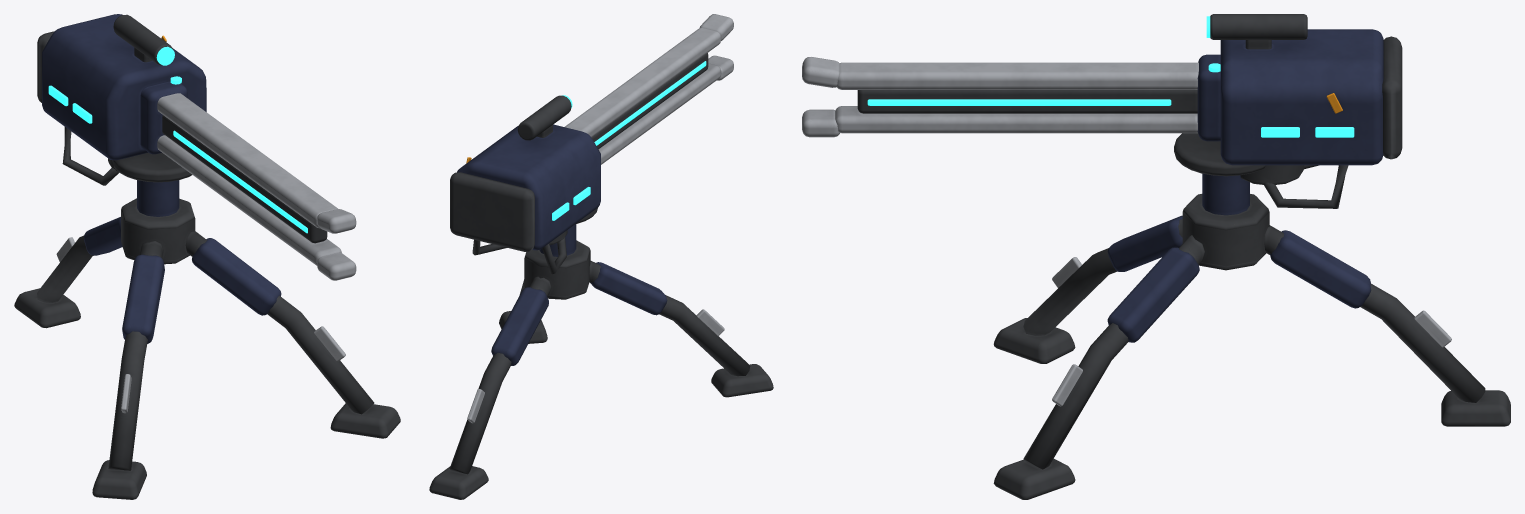
Rendered from needle_midnight_steel.glb.
3 views of the same model, side by side, from view 1: azimuth 30°, elevation 25°; view 2: azimuth 150°, elevation 25°; view 3: azimuth 270°, elevation 25° (orthographic). The views are drawn at different scales.
Parts seen in each view (by area): view 1: Needle_Head, Needle_Base; view 2: Needle_Head, Needle_Base; view 3: Needle_Head, Needle_Base.
Part boxes in pixels (box(x1,y1,x2,y2)): Needle_Head: box(37, 14, 356, 280); Needle_Base: box(14, 152, 400, 499); Needle_Head: box(450, 14, 733, 274); Needle_Base: box(429, 208, 773, 499); Needle_Head: box(802, 14, 1402, 208); Needle_Base: box(993, 133, 1510, 499).
Bounding box in the file's own units: 1.84 × 2.04 × 3.26.
Materials: 5 (4 with a texture image).
